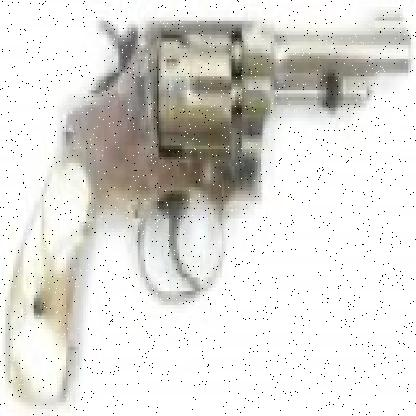pistol: (13, 10, 411, 391)
